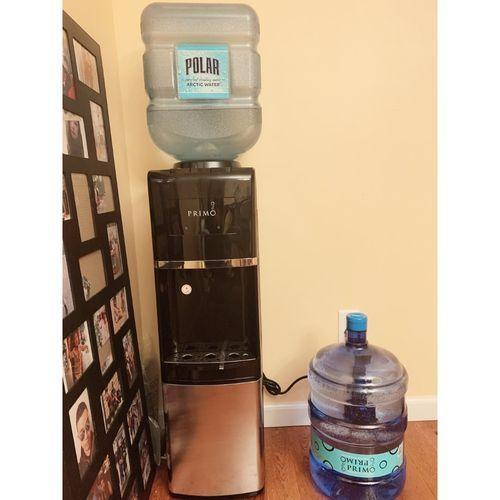Dispenser: (139, 2, 265, 499)
